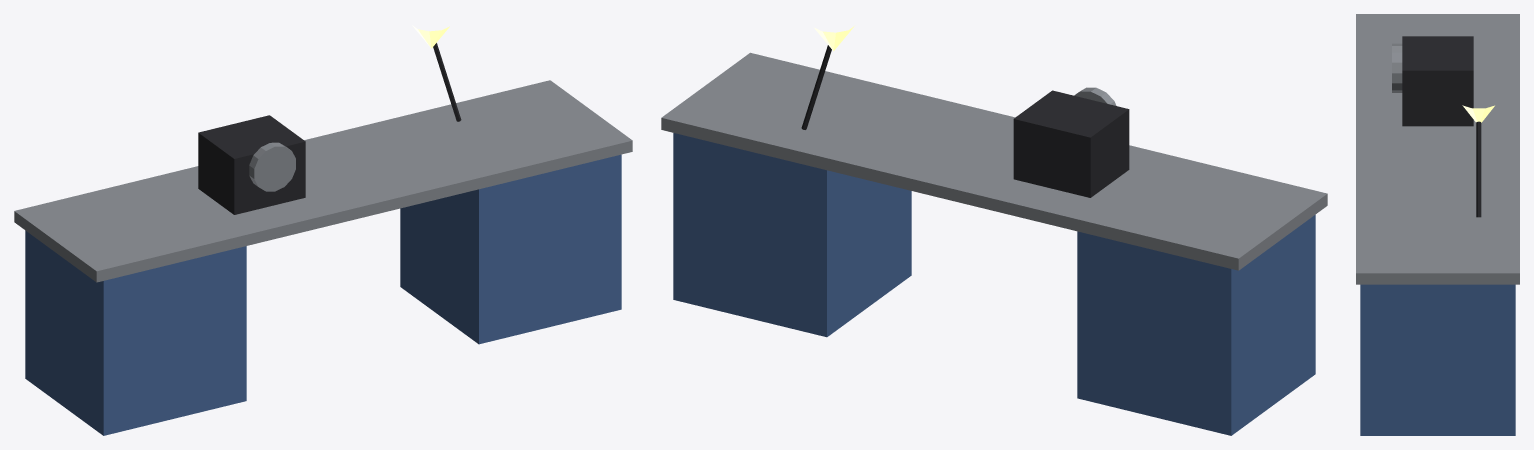
File: lens_workbench.glb
3 renders of one model, left to right at view 1: azimuth 30°, elevation 25°; view 2: azimuth 150°, elevation 25°; view 3: azimuth 270°, elevation 25°, orthographic. The views are drawn at different scales.
Parts seen in each view (by area): view 1: cabinet_bench_blue (×2), top_bench_grey, grinder_phoropter_black, wheel_bench_grey; view 2: cabinet_bench_blue (×2), top_bench_grey, grinder_phoropter_black; view 3: top_bench_grey, cabinet_bench_blue, grinder_phoropter_black, lamp_arm_phoropter_black, wheel_bench_grey, lamp_lamp_bulb.
Boxes of the visible parts, x1,y1,x2,y2 form: cabinet_bench_blue (×2): (25, 154, 621, 435); top_bench_grey: (14, 80, 632, 282); grinder_phoropter_black: (198, 115, 305, 214); wheel_bench_grey: (249, 142, 295, 191); cabinet_bench_blue (×2): (673, 133, 1315, 435); top_bench_grey: (661, 52, 1327, 270); grinder_phoropter_black: (1013, 90, 1129, 197); top_bench_grey: (1356, 14, 1519, 284); cabinet_bench_blue: (1360, 284, 1515, 435); grinder_phoropter_black: (1402, 36, 1473, 126); lamp_arm_phoropter_black: (1476, 121, 1481, 217); wheel_bench_grey: (1392, 43, 1402, 92); lamp_lamp_bulb: (1462, 105, 1494, 122).
Size of the model in its own units: 3 by 1.47 by 0.8.
